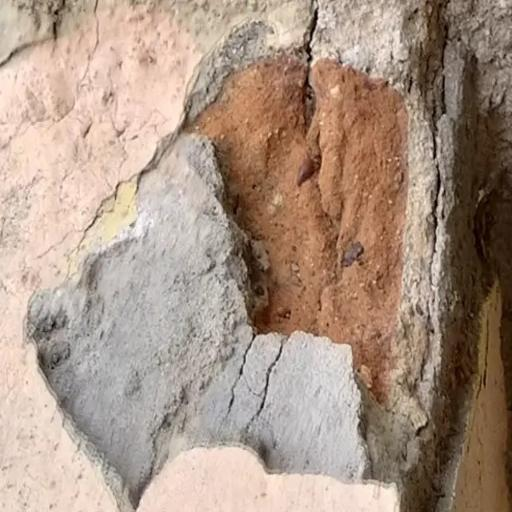spalling: (53, 0, 512, 512)
